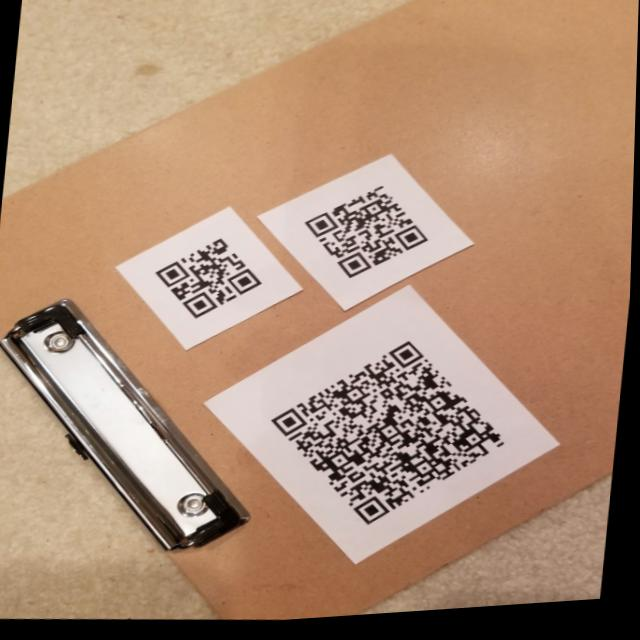QR_CODE: (252, 324, 527, 556), (291, 174, 444, 301), (140, 219, 277, 336)
